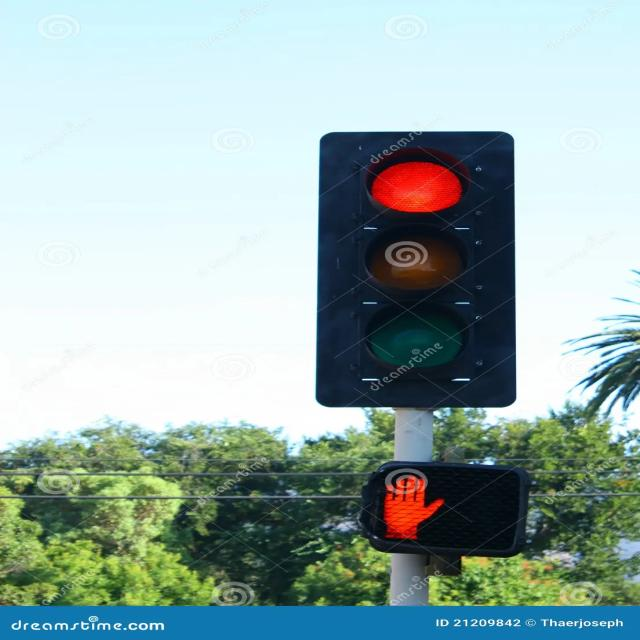red: (366, 151, 466, 215), (377, 465, 446, 544)
